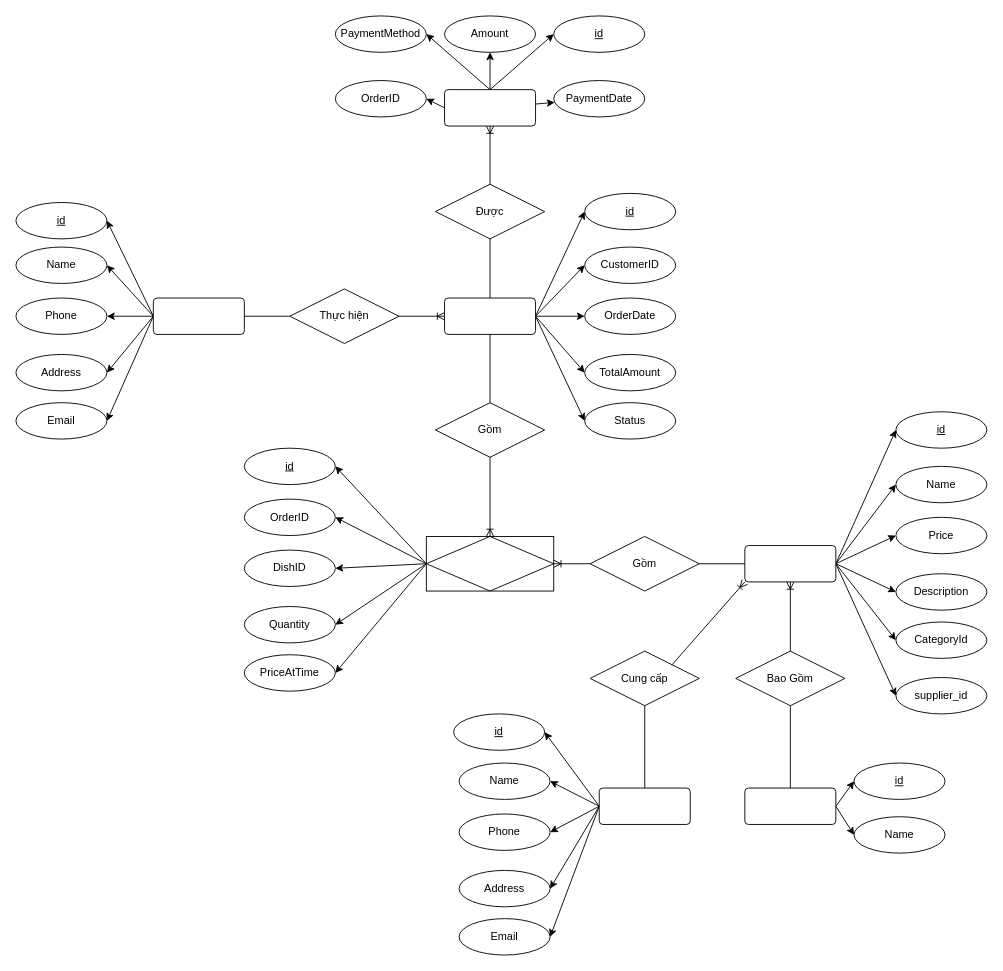
Some shapes in this 1003 by 971 pixel diagram are drawn without their labels. The shapes that lost their labels are listed below. From the top down, each one's centre as x and y in pixels, then its label:
At pixel 490 107: "P ayments".
At pixel 198 315: "Customers".
At pixel 490 315: "Orders".
At pixel 489 563: "OrderDetails".
At pixel 790 563: "Dishes".
At pixel 644 805: "Suppliers".
At pixel 790 805: "Categories".
